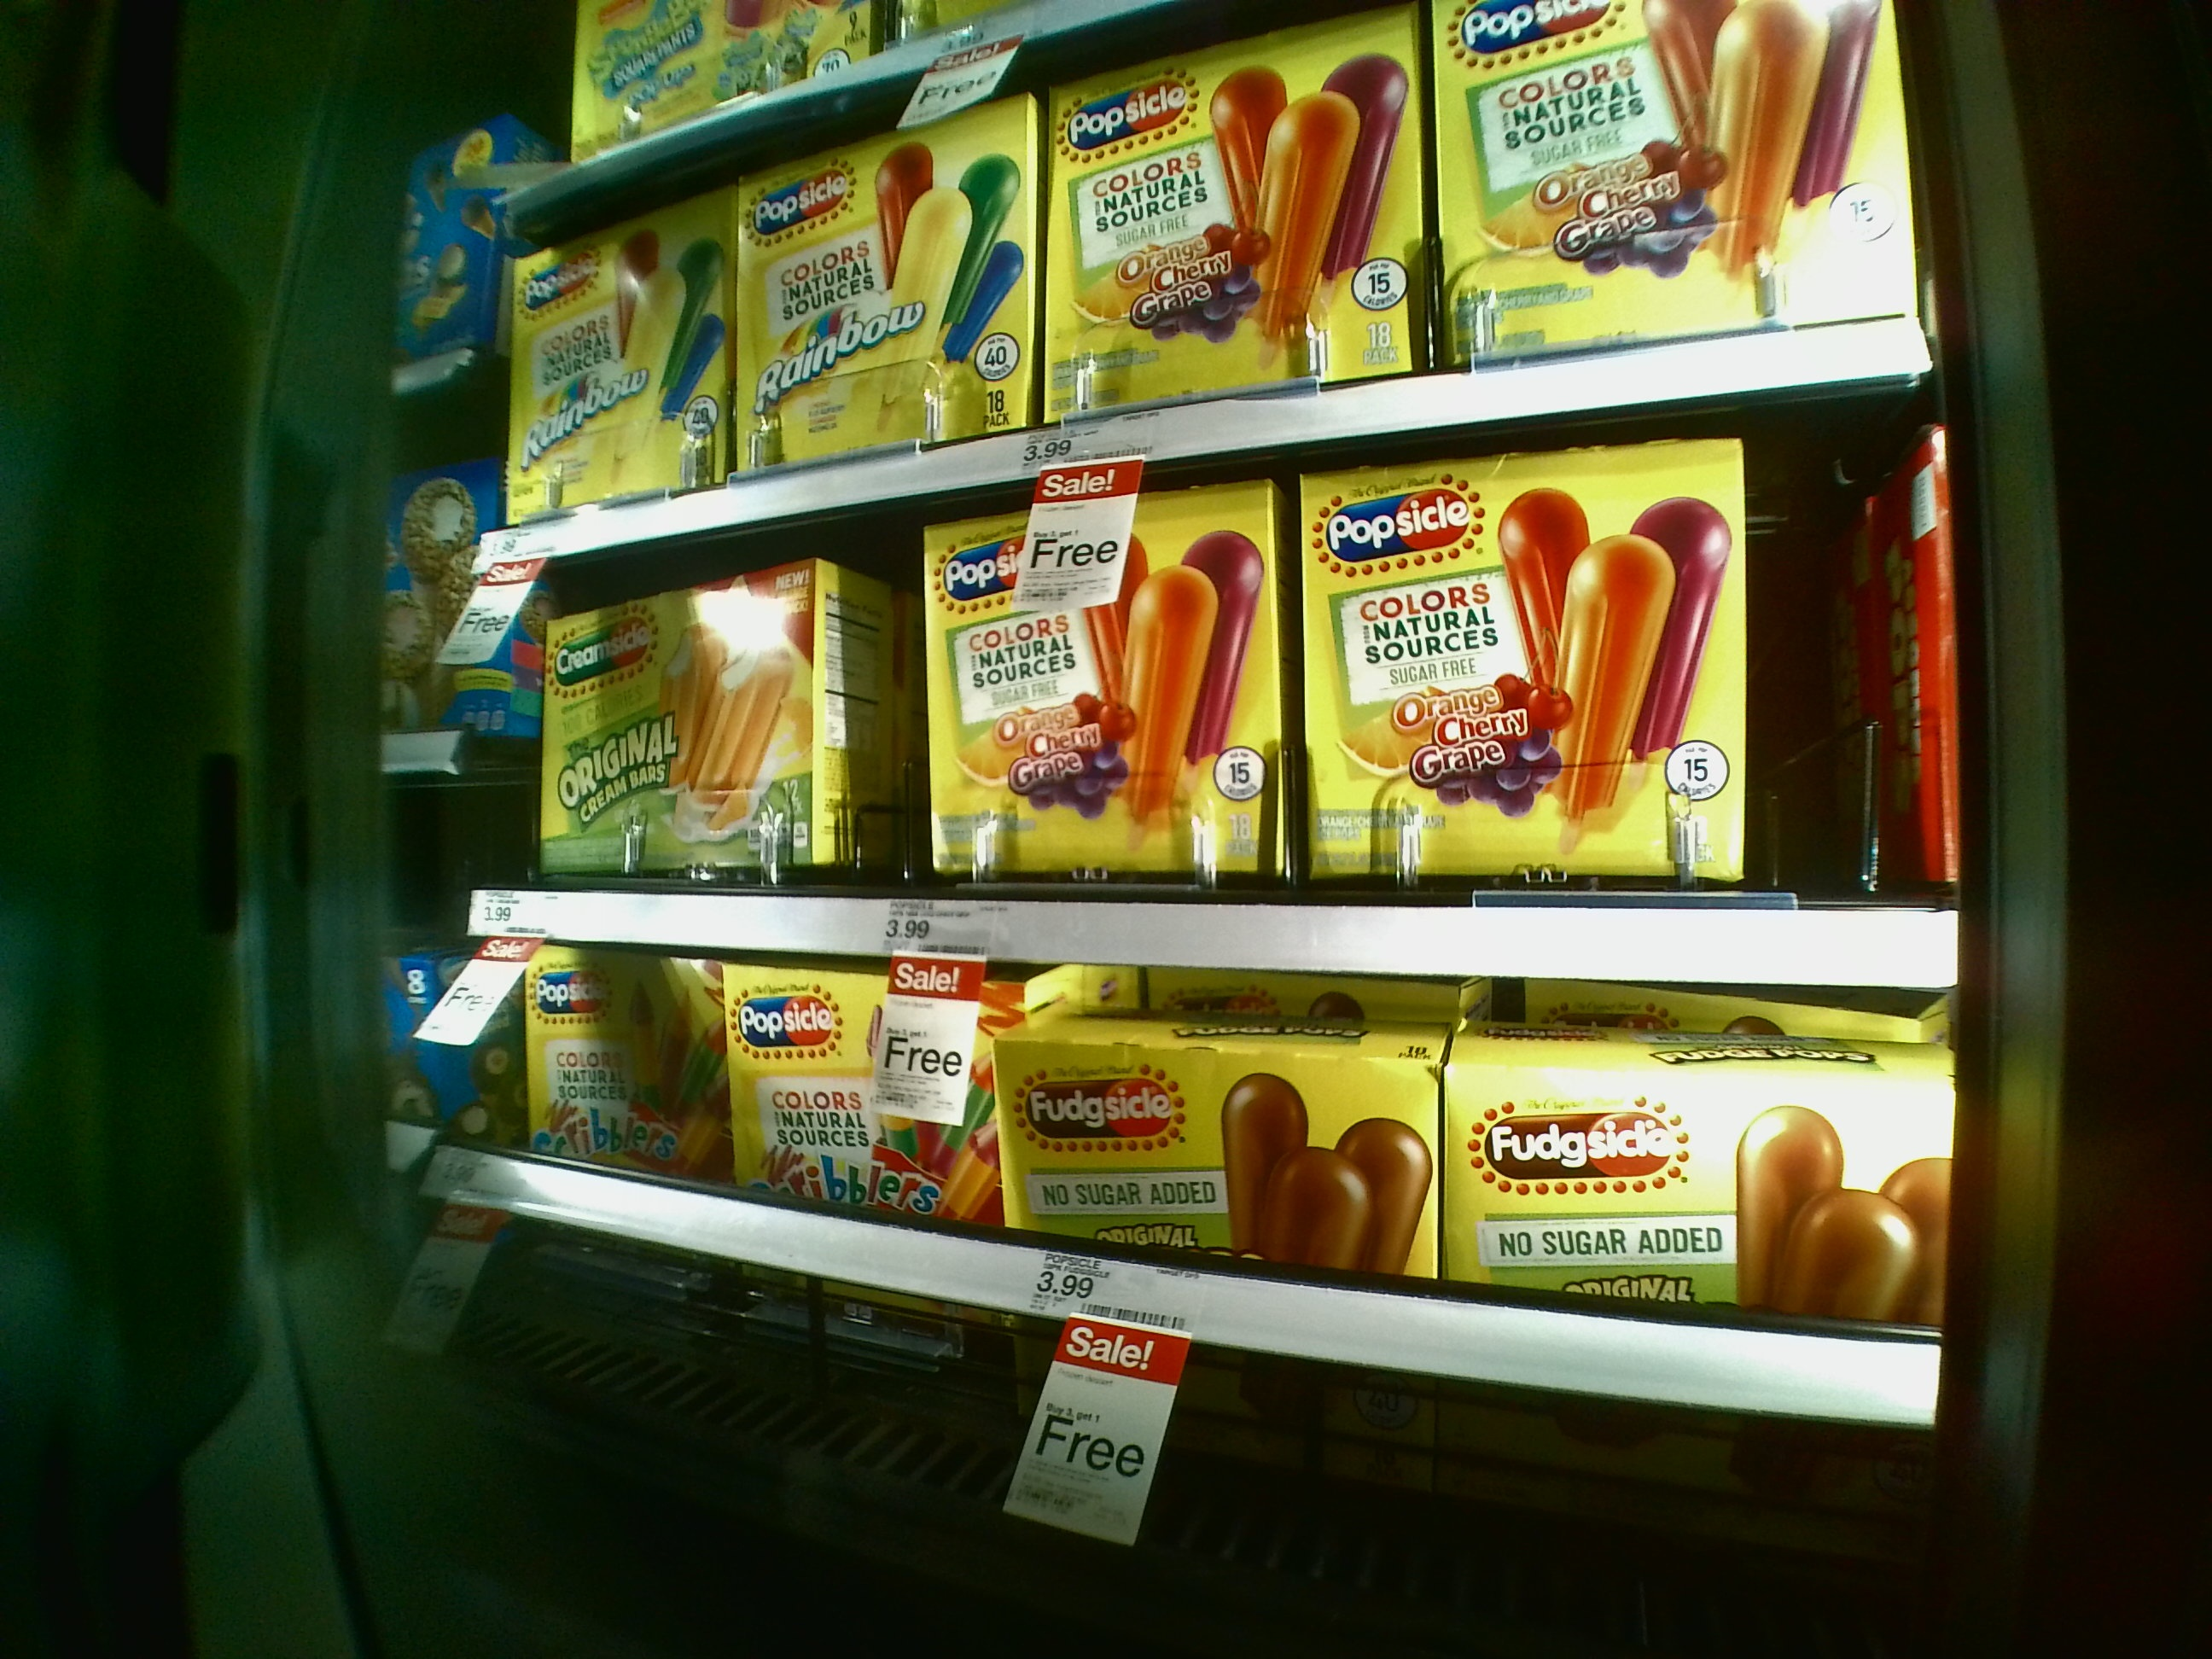shelf: (484, 455, 1952, 986), (479, 962, 1949, 1481)
